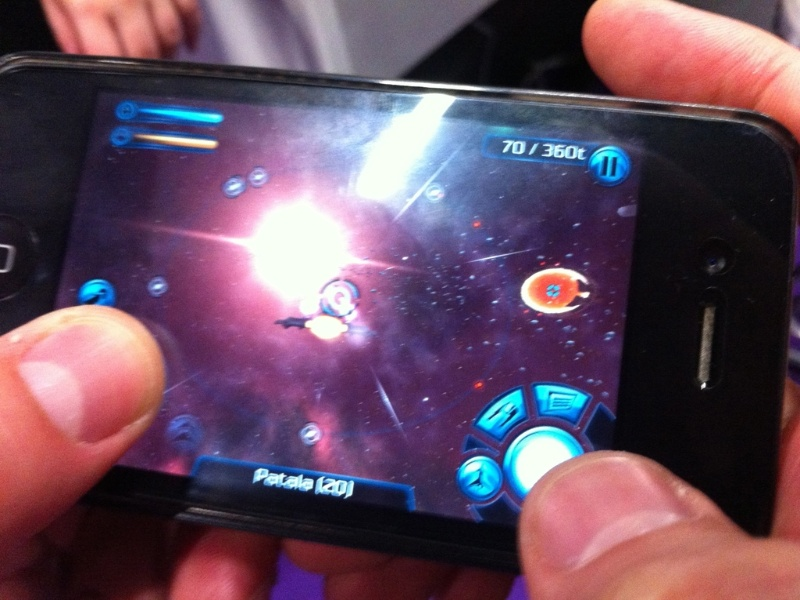cellphone: (1, 92, 791, 549)
